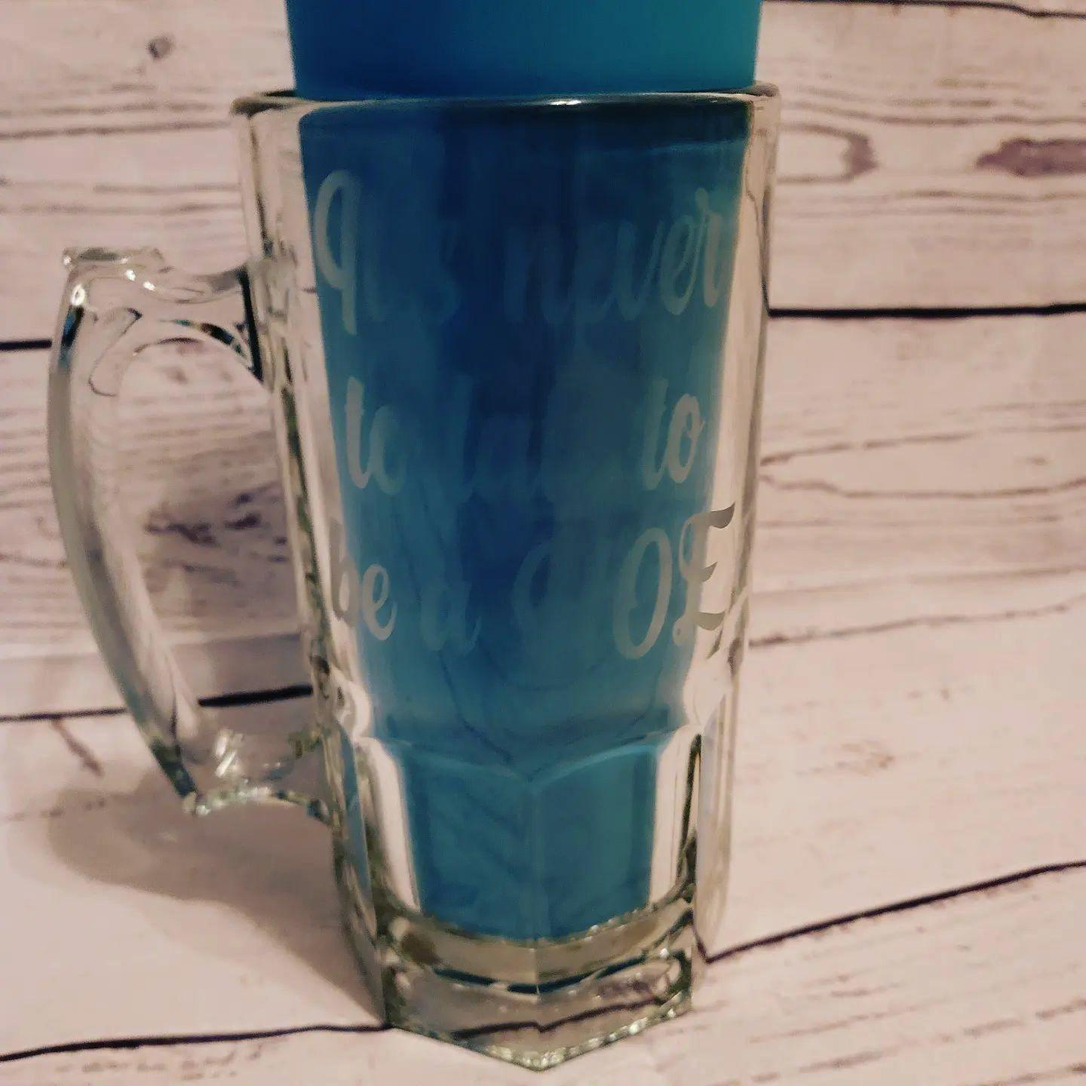glass-mug: (32, 75, 808, 1063)
